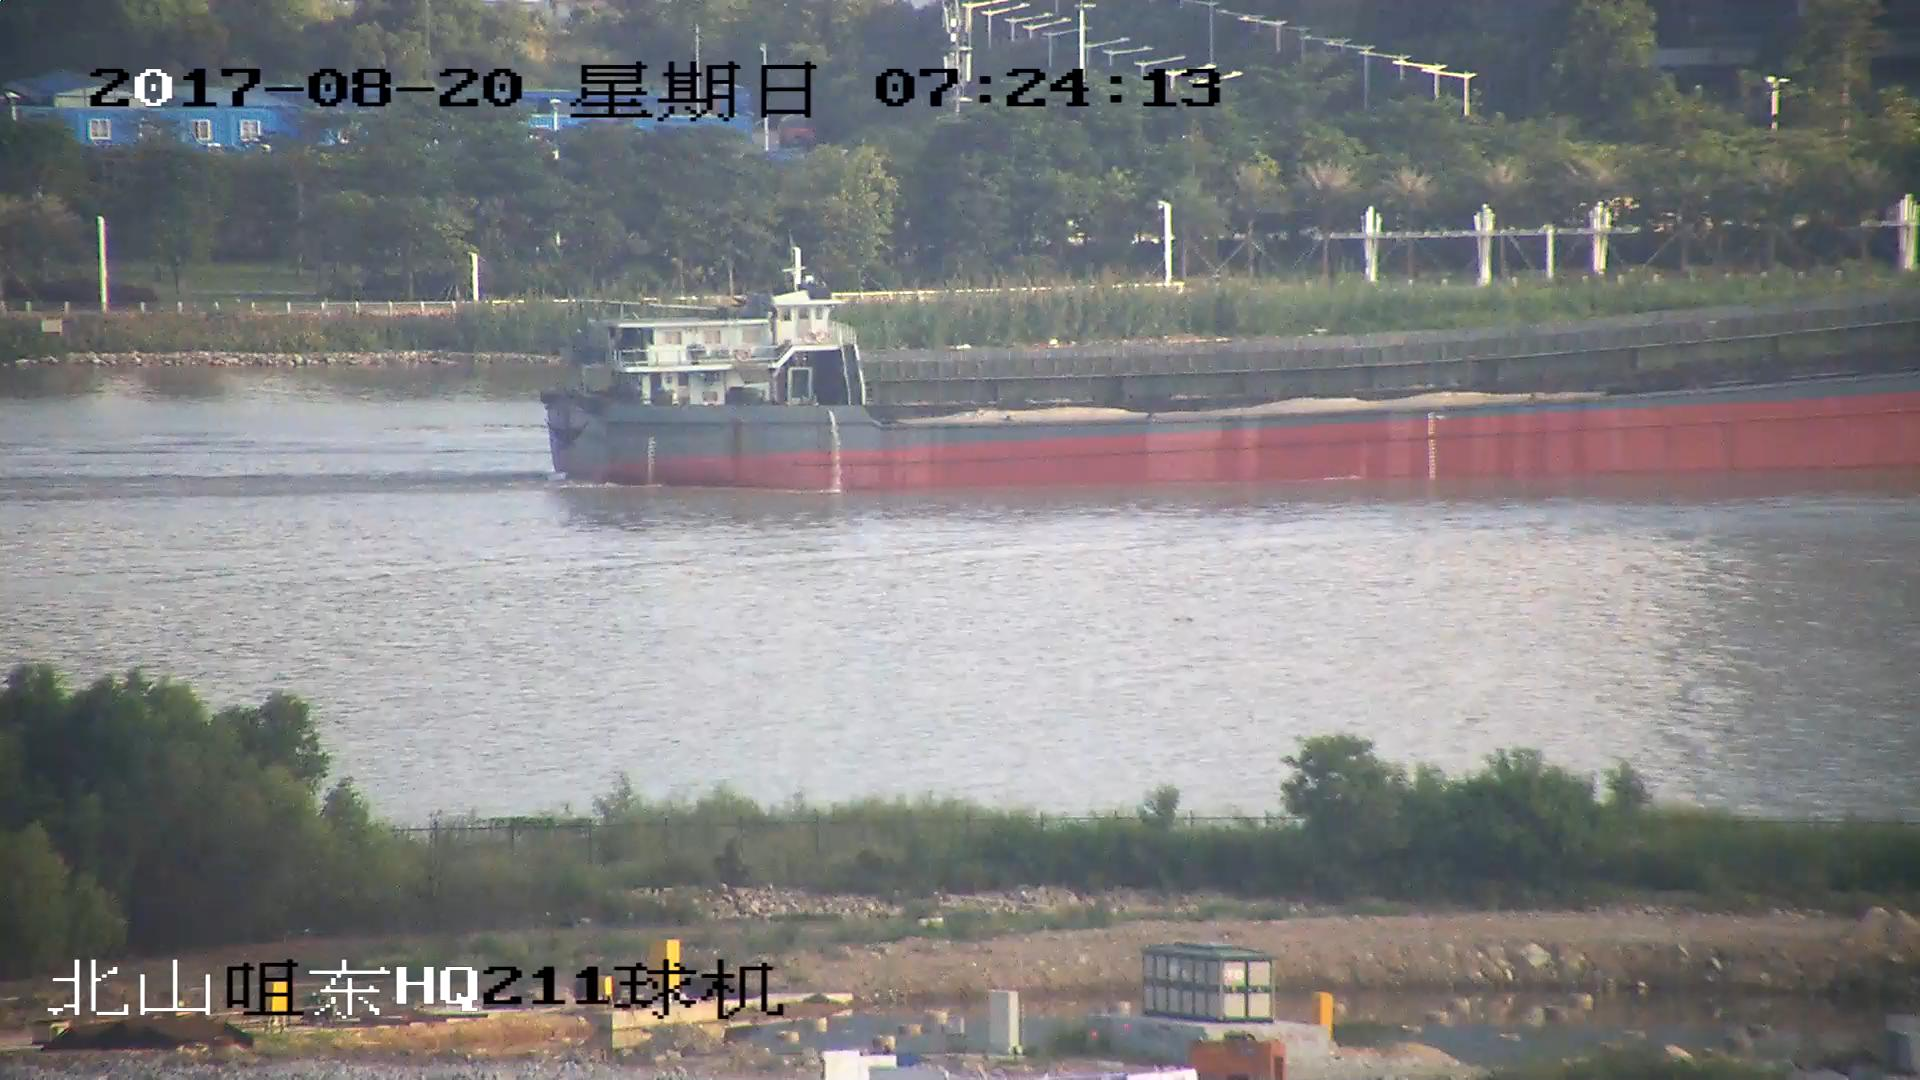bulk cargo carrier: (539, 273, 1920, 484)
